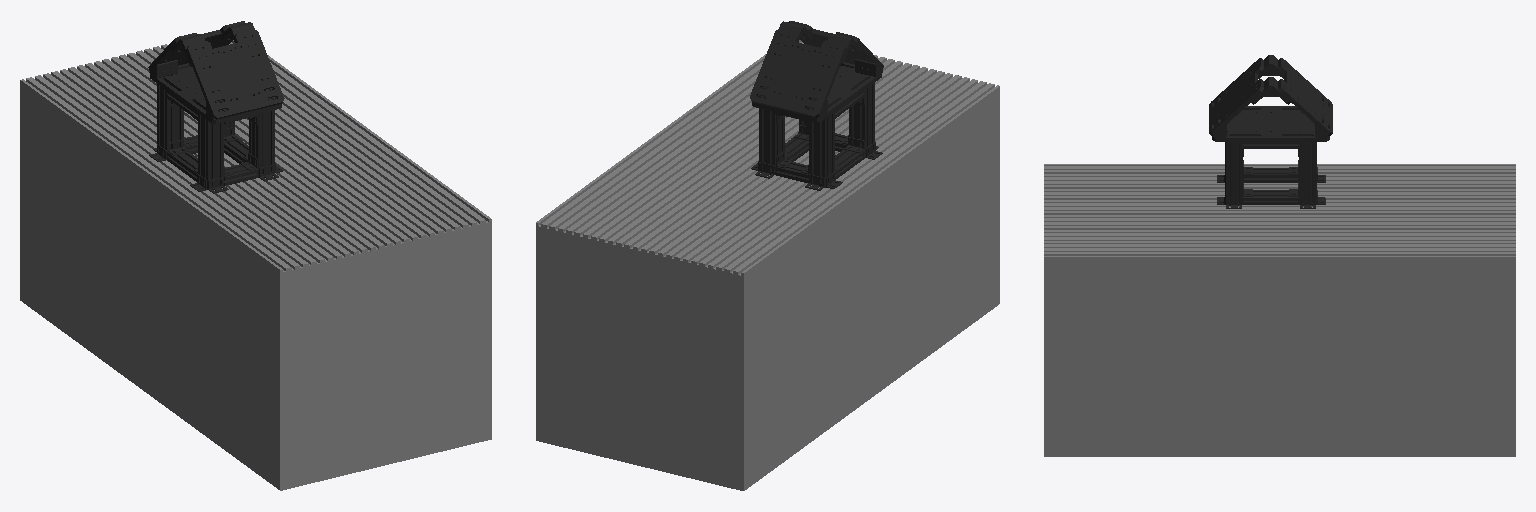
robot.urdf — table_env:
<?xml version="1.0" ?>
<!-- =================================================================================== -->
<!-- |    This document was autogenerated by xacro from /home/user/prime/ChanukHwang/RobotAgentSystem/tools/ros2/dex_ros/isaac-ros/kistar_ws/src/franka_kistar_bringup/urdf/table.urdf.xacro | -->
<!-- |    EDITING THIS FILE BY HAND IS NOT RECOMMENDED                                 | -->
<!-- =================================================================================== -->
<robot name="table_env">
  <!-- (선택) material을 이름으로 관리하고 싶으면 이렇게 정의해도 됨 -->
  <material name="mid_gray">
    <color rgba="0.55 0.55 0.55 1.0"/>
  </material>
  <material name="dark_gray">
    <color rgba="0.20 0.20 0.20 1.0"/>
  </material>
  <material name="collision_red">
    <color rgba="1.0 0.0 0.0 1.0"/>
  </material>
  <link name="table_link"/>
  <link name="table_top">
    <visual>
      <origin rpy="0 0 0" xyz="-0.185 -0.8 -0.75"/>
      <geometry>
        <mesh filename="package://franka_kistar_bringup/meshes/table/btable.STL" scale="0.001 0.001 0.001"/>
      </geometry>
      <material name="mid_gray"/>
    </visual>
    <collision>
      <origin rpy="0 0 0" xyz="0.05 0. -0.35"/>
      <geometry>
        <box size="1.0 1.8 0.7"/>
      </geometry>
      <material name="collision_red"/>
    </collision>
  </link>
  <joint name="table_top_joint" type="fixed">
    <parent link="table_link"/>
    <child link="table_top"/>
    <origin rpy="0 0 0" xyz="0 0 0"/>
  </joint>
  <link name="franka_support_body">
    <visual>
      <!-- <origin xyz="0 0 0" rpy="0 0 0"/> -->
      <origin rpy="1.5708 0 1.5708" xyz="-0.12 -0.243 0"/>
      <geometry>
        <mesh filename="package://franka_kistar_bringup/meshes/new_table/Franka_support_body.STL" scale="0.001 0.001 0.001"/>
      </geometry>
      <material name="dark_gray"/>
    </visual>
  </link>
  <joint name="franka_support_body_joint" type="fixed">
    <parent link="table_link"/>
    <child link="franka_support_body"/>
    <origin rpy="0 0 0" xyz="0 0 0"/>
  </joint>
</robot>

--- What the picture shows (computed from the rendered views, not written in the file) ---
The picture shows the robot from 3 angles, left to right: view 1: azimuth 30°, elevation 25°; view 2: azimuth 150°, elevation 25°; view 3: azimuth 270°, elevation 25°; orthographic projection.
Model table_env with 3 links and 2 joints (2 fixed), rooted at table_link, posed every joint at zero.
Links seen in each view (by area): view 1: table_top, franka_support_body; view 2: table_top, franka_support_body; view 3: table_top, franka_support_body.
Link boxes in pixels (bbox=[...]): table_top: bbox=[20, 40, 491, 490]; franka_support_body: bbox=[148, 21, 284, 193]; table_top: bbox=[536, 40, 999, 490]; franka_support_body: bbox=[750, 21, 883, 190]; table_top: bbox=[1044, 164, 1515, 456]; franka_support_body: bbox=[1209, 55, 1332, 208].
Bounding box of the posed robot: 0.75 × 1.6 × 1.2 m (x, y, z).
Meshes: 2 distinct files referenced, 2 mesh visuals loaded (2 binary STL).
